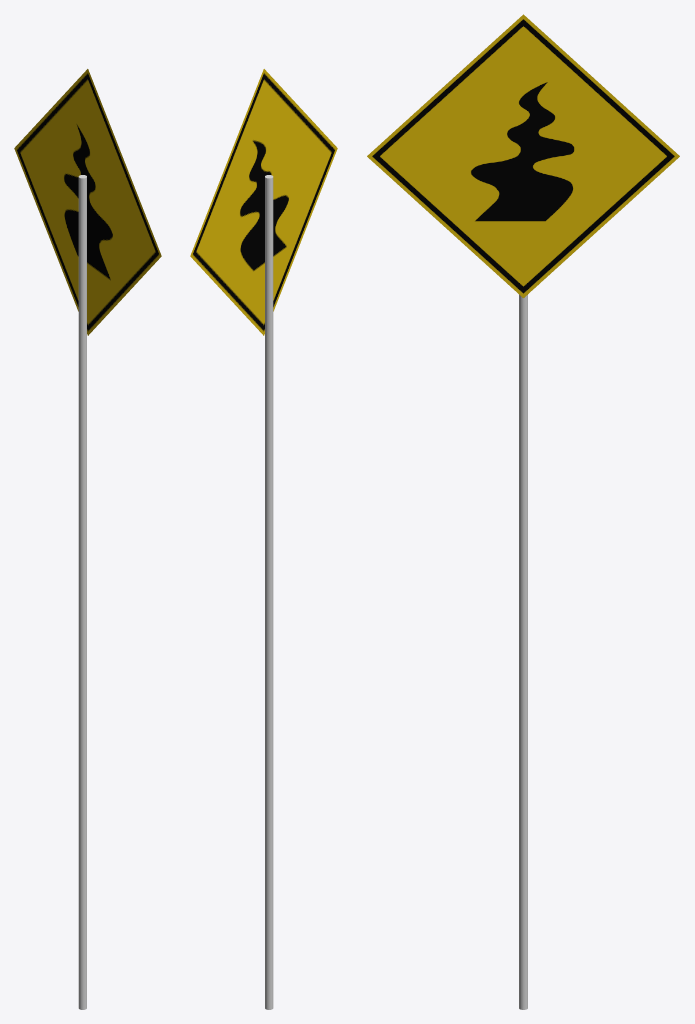
File: tak-sekata.fbx
3 renders of one model, left to right at view 1: azimuth 30°, elevation 25°; view 2: azimuth 150°, elevation 25°; view 3: azimuth 270°, elevation 25°, orthographic. The views are drawn at different scales.
Visible parts, largest first — view 1: tak-sekata, Cylinder; view 2: tak-sekata, Cylinder; view 3: tak-sekata, Cylinder.
Part boxes in pixels (x1,y1,x2,y2): tak-sekata: (14, 69, 161, 335); Cylinder: (78, 175, 86, 1009); tak-sekata: (190, 69, 337, 335); Cylinder: (265, 175, 273, 1009); tak-sekata: (367, 14, 679, 297); Cylinder: (519, 294, 527, 1009).
Bounding box in the file's own units: 3.43 × 350 × 100.
